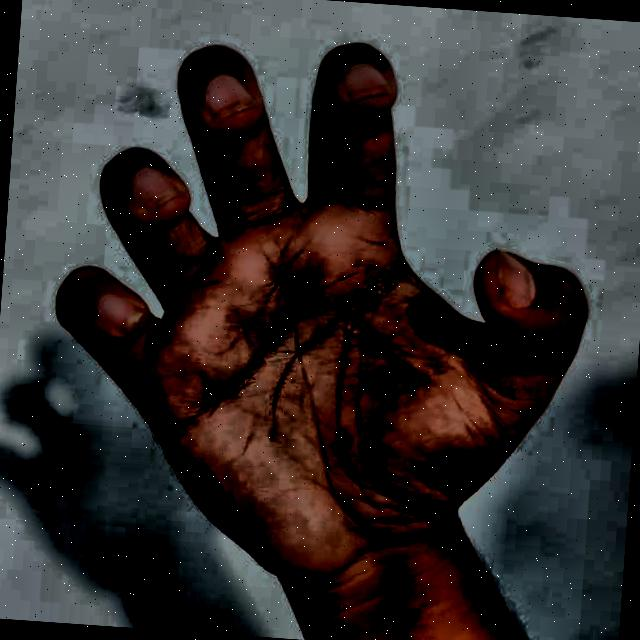Ja: (29, 0, 616, 640)
